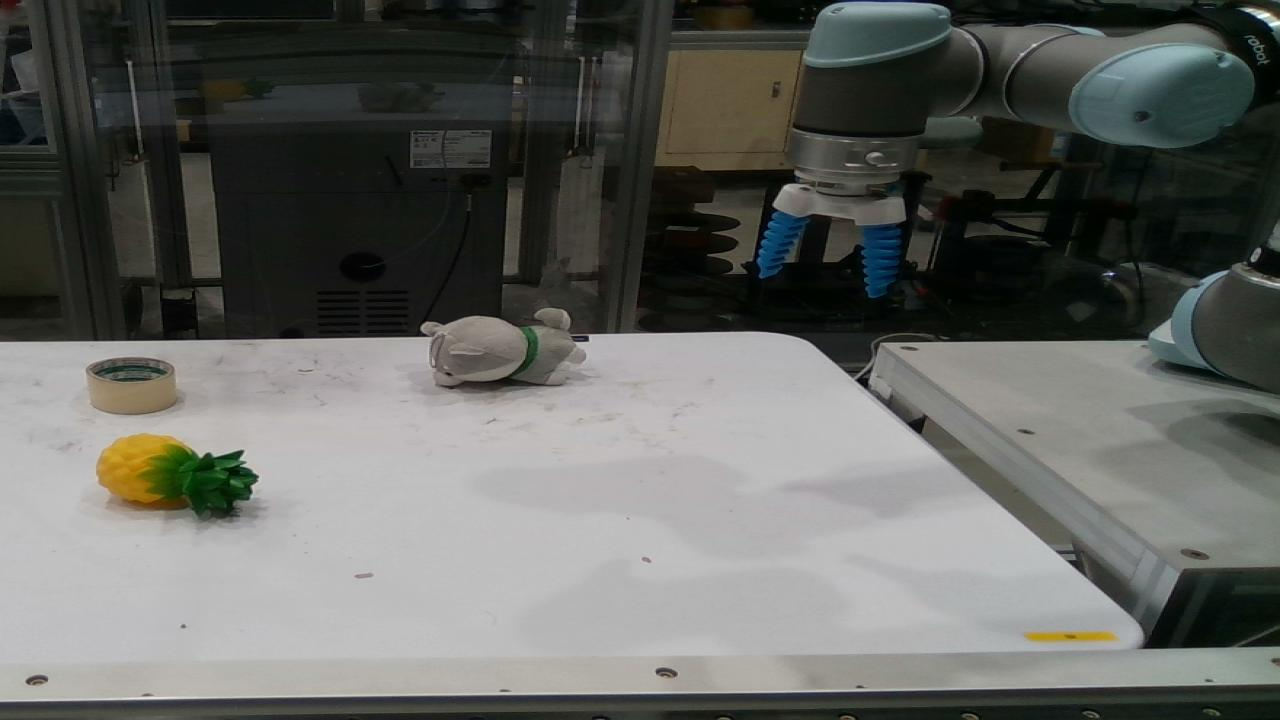UR5: (776, 2, 1276, 224), (1172, 224, 1278, 391)
gripper_left: (758, 213, 806, 278)
gripper_right: (864, 224, 900, 296)
target: (98, 435, 254, 514), (424, 309, 582, 386), (88, 357, 172, 413)
